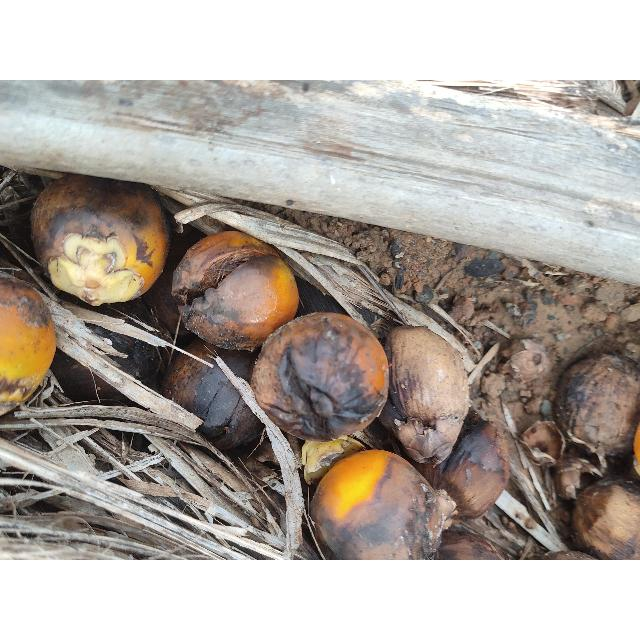damaged: (31, 173, 172, 304), (170, 231, 294, 347), (267, 317, 378, 438), (327, 448, 441, 560), (390, 328, 478, 462), (46, 304, 166, 402), (160, 338, 264, 448), (552, 353, 640, 461), (0, 270, 58, 410), (430, 418, 510, 518), (568, 473, 640, 559), (119, 451, 193, 512), (472, 279, 548, 329), (46, 346, 108, 404), (0, 433, 50, 493), (302, 472, 338, 550), (496, 383, 544, 437), (504, 342, 550, 386), (520, 421, 564, 464), (46, 512, 100, 538), (554, 461, 590, 499), (122, 428, 162, 458), (548, 503, 576, 535), (462, 258, 506, 278), (1, 250, 30, 280), (370, 316, 398, 344), (580, 300, 612, 322), (537, 550, 607, 560), (450, 296, 474, 324), (0, 395, 26, 419), (462, 309, 494, 327), (620, 302, 640, 322), (414, 286, 434, 304), (388, 240, 404, 258), (0, 186, 16, 204), (394, 270, 404, 292)
